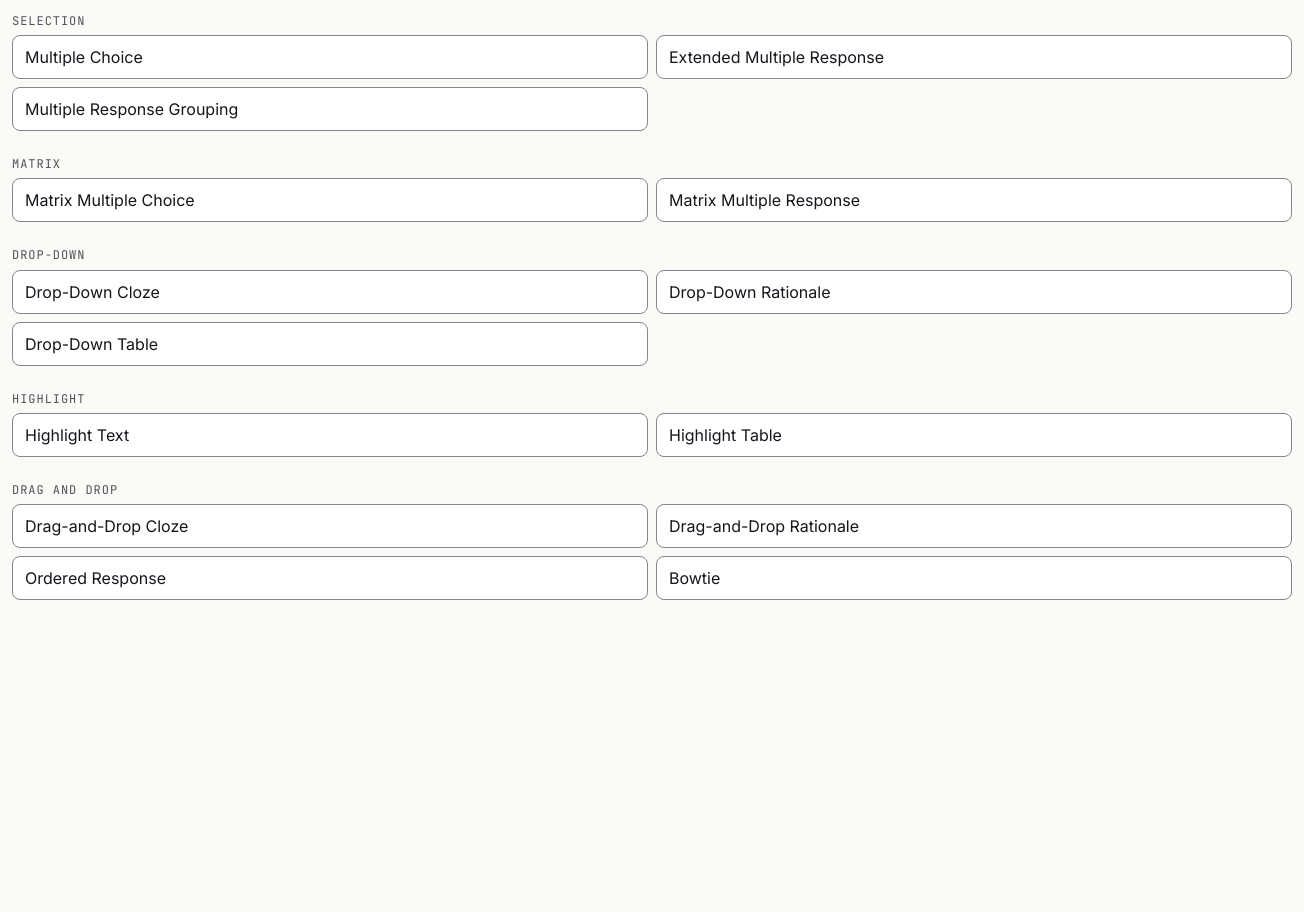
Test: StepTypeChooser › says why the step could not be started
The image size is (1304, 912).
Click the button "Multiple Choice" at [84, 57], box [12,35,648,79]
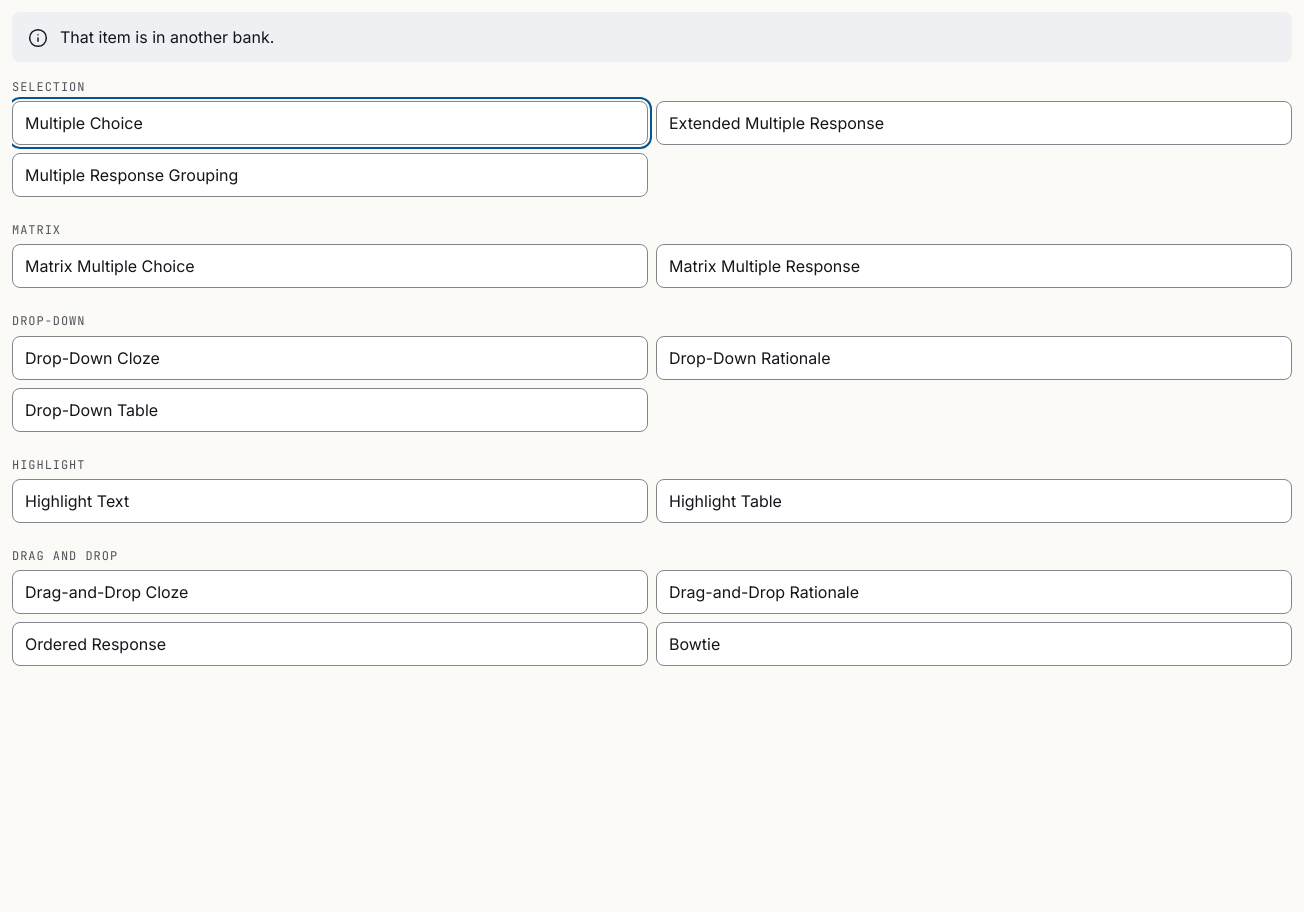
Now the message reads "That item is in another bank.", box [60,27,274,47]
